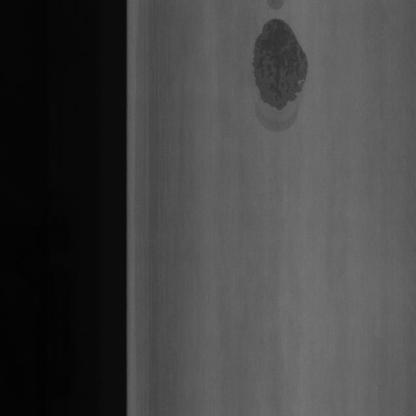oil_spot: (246, 11, 310, 124)
